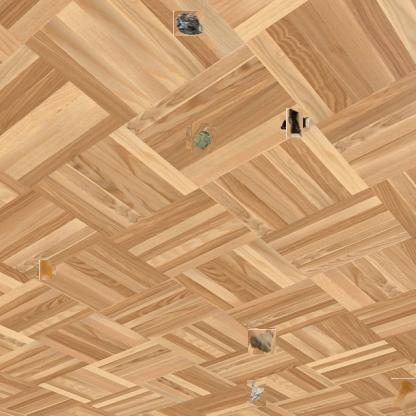dirty: (173, 10, 204, 36), (249, 329, 276, 355), (188, 126, 214, 152), (283, 112, 307, 135), (247, 380, 268, 406)
liquid: (391, 378, 415, 415), (38, 262, 54, 279)
